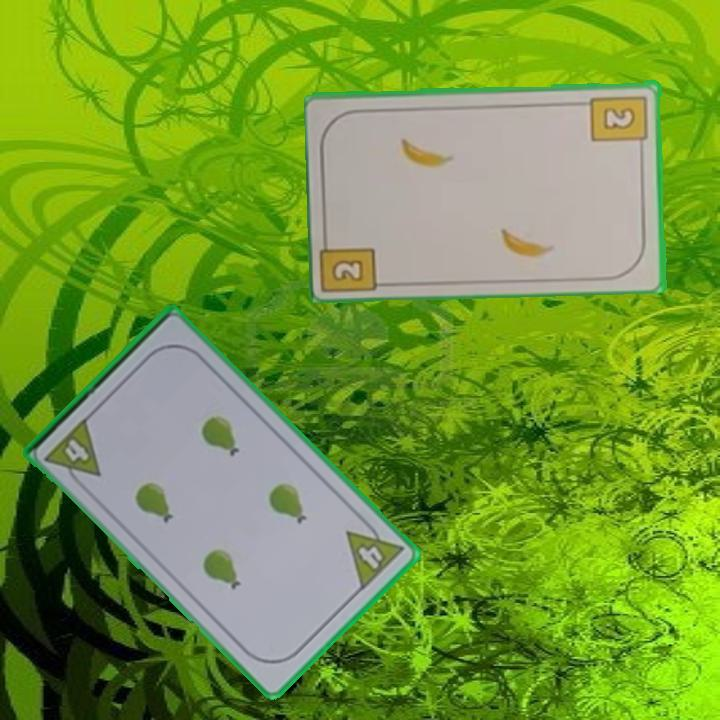2b: (321, 229, 383, 294), (589, 91, 651, 153)
4p: (342, 513, 407, 594), (41, 413, 104, 492)
